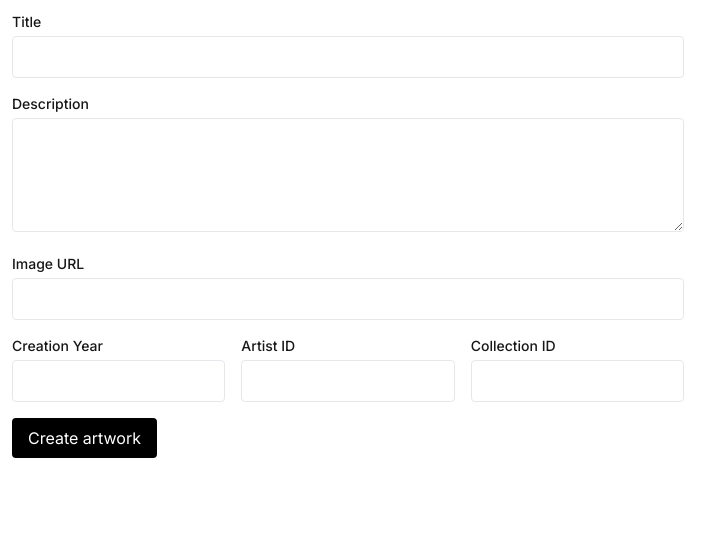
Test: ArtworkCreateForm › displays validation errors when submitting an empty form
Click the button "Create artwork": (84, 438) x1=12 y1=418 x2=157 y2=458
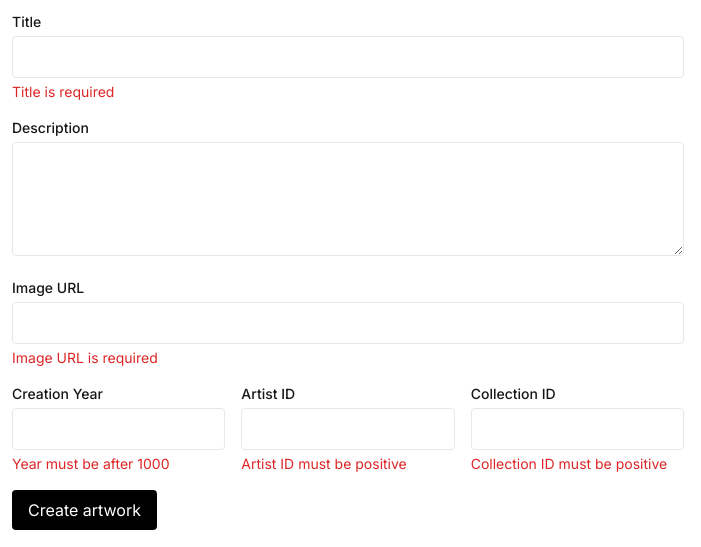
expect the text "Title is required" is shown: met, box x1=12 y1=83 x2=114 y2=100
expect the text "Image URL is required" is shown: met, box x1=12 y1=349 x2=158 y2=366
